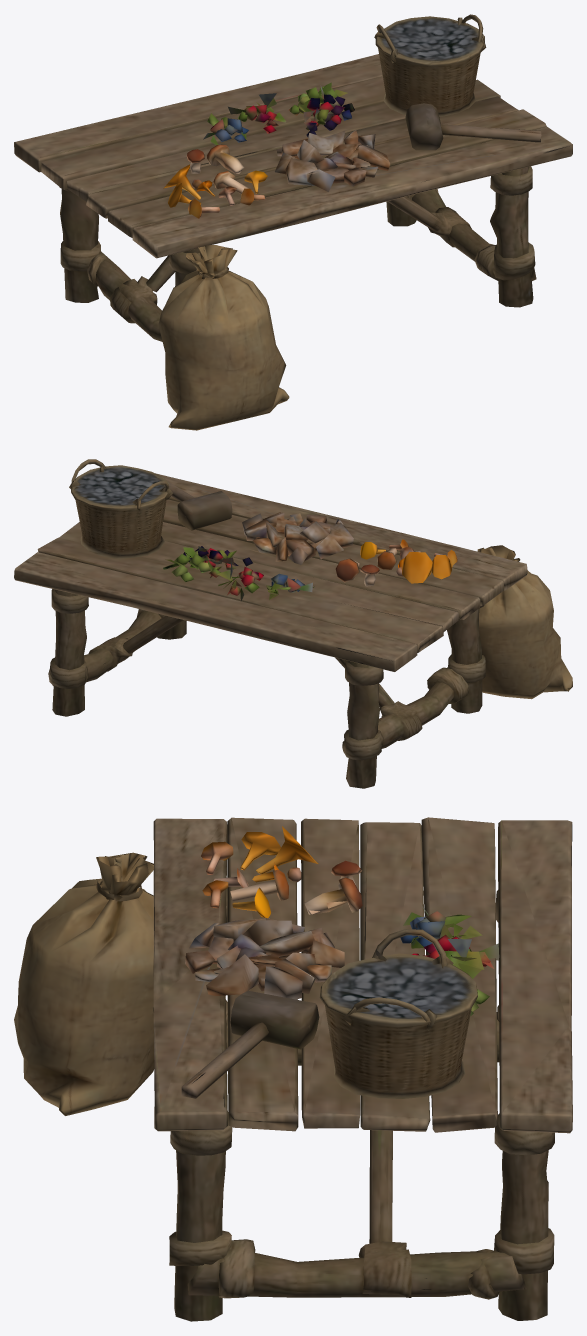
The model's file is sorting_table.fbx.
3 renders of one model, top to bottom at view 1: azimuth 30°, elevation 25°; view 2: azimuth 150°, elevation 25°; view 3: azimuth 270°, elevation 25°, orthographic. The views are drawn at different scales.
Visible parts, largest first — view 1: geometry_0; view 2: geometry_0; view 3: geometry_0.
Part boxes in pixels (x1=…): geometry_0: x1=14, y1=14, x2=572, y2=430; geometry_0: x1=14, y1=459, x2=572, y2=788; geometry_0: x1=14, y1=817, x2=572, y2=1321.
Bounding box in the file's own units: 89.6 × 46.24 × 68.65.
Materials: 1 (1 with a texture image).
